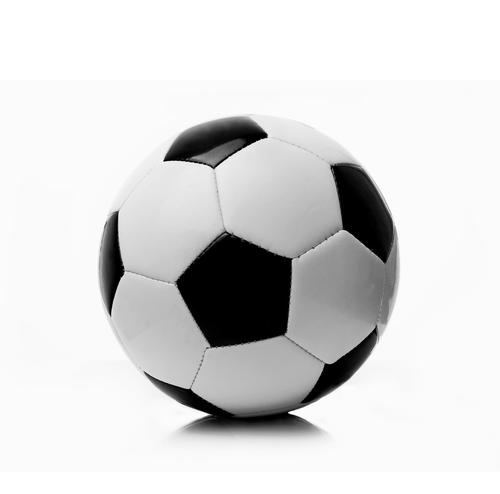football: (91, 117, 413, 418)
